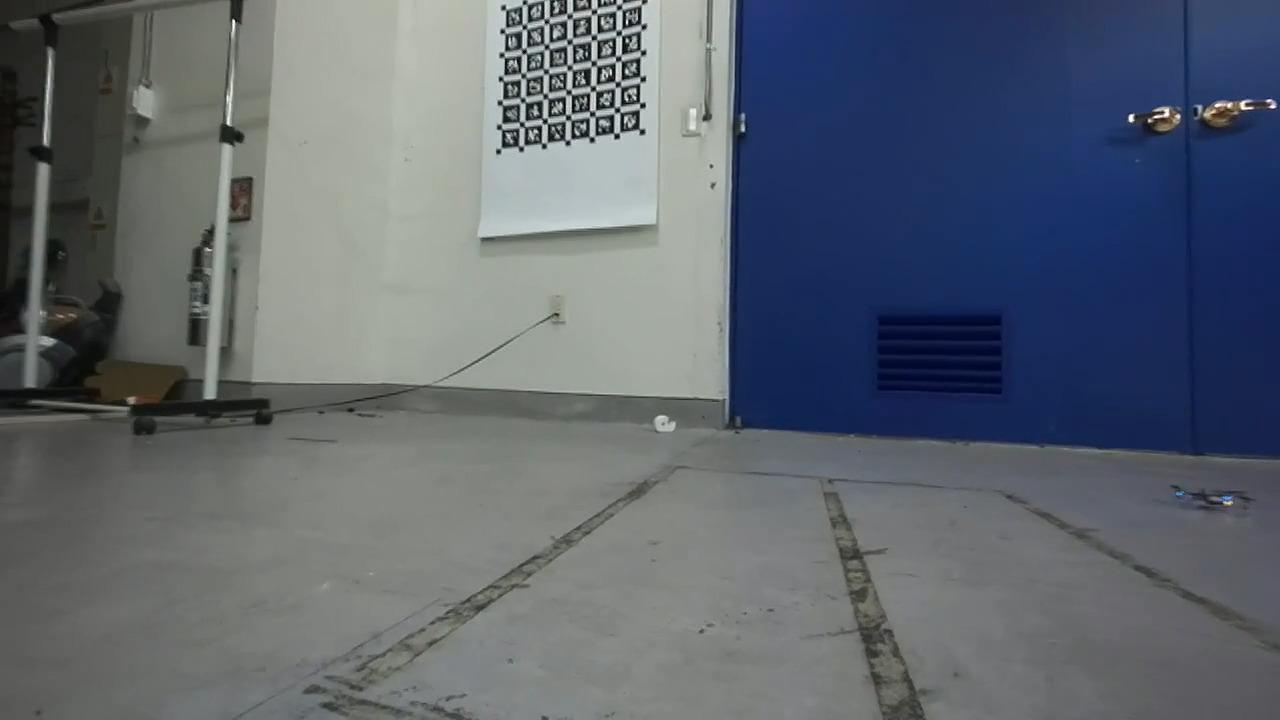crazyflie: (1167, 481, 1252, 517)
